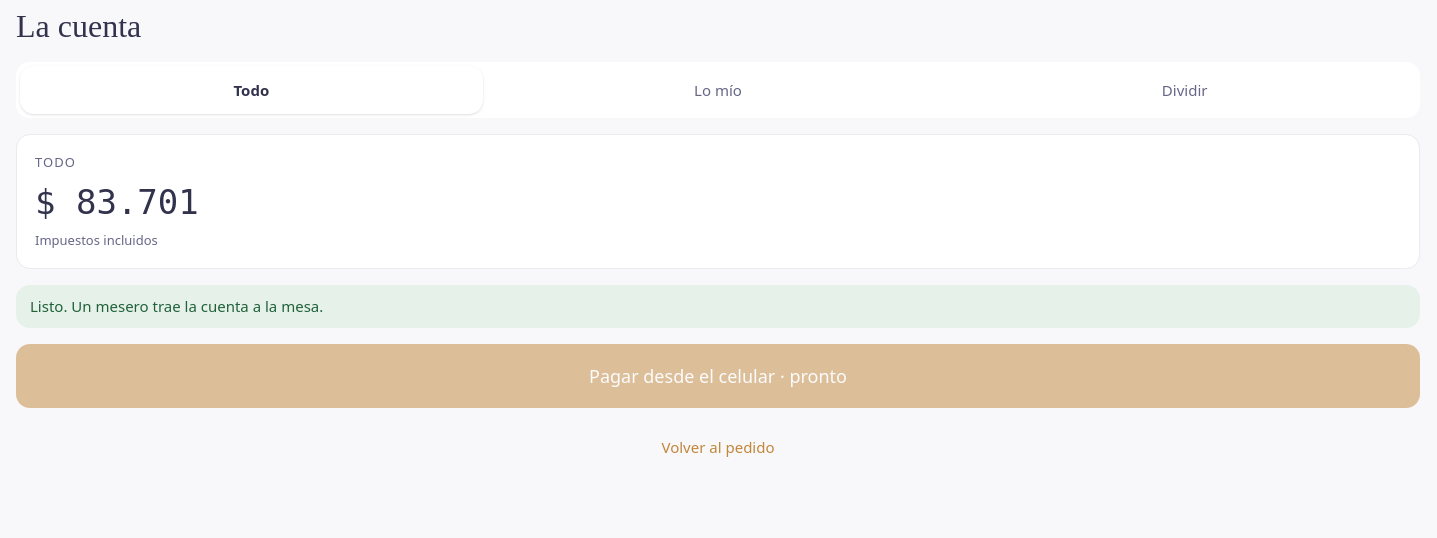
Test: prefers the per-part figure the server computed for its diners
This screenshot has width=1437, height=538.
Click the button "Dividir" at point(1185, 90), box [953, 66, 1416, 114]
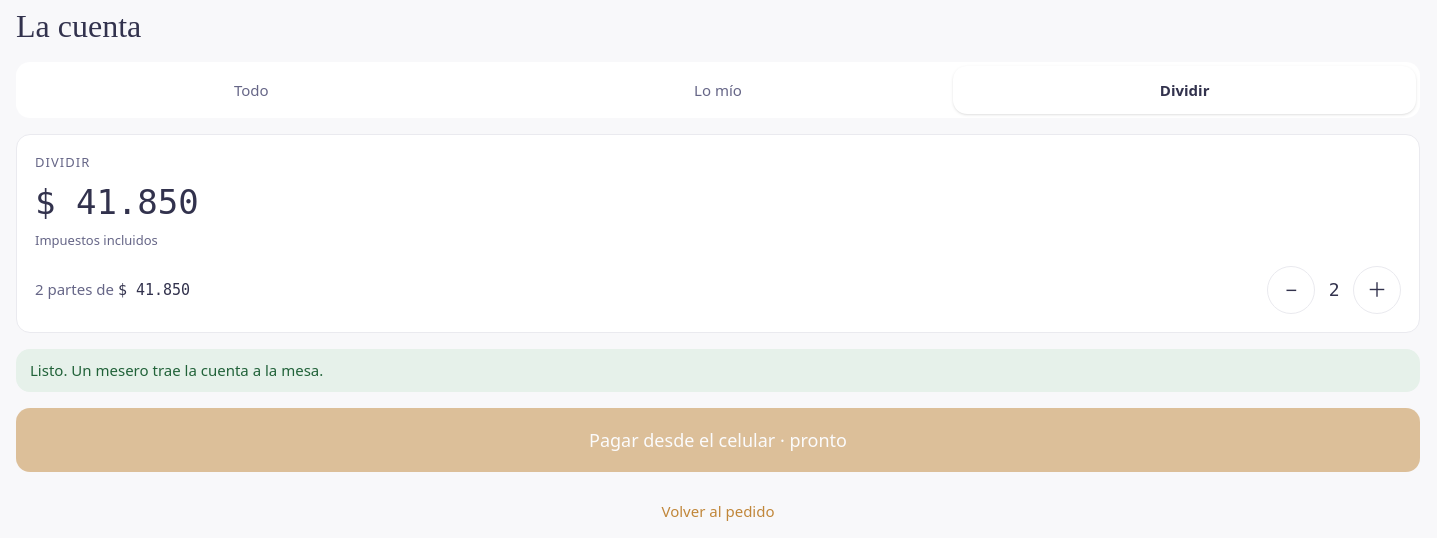
Result: the text "$ 41.850" is shown 2 times at [35, 182, 199, 222]; [118, 281, 190, 299]
